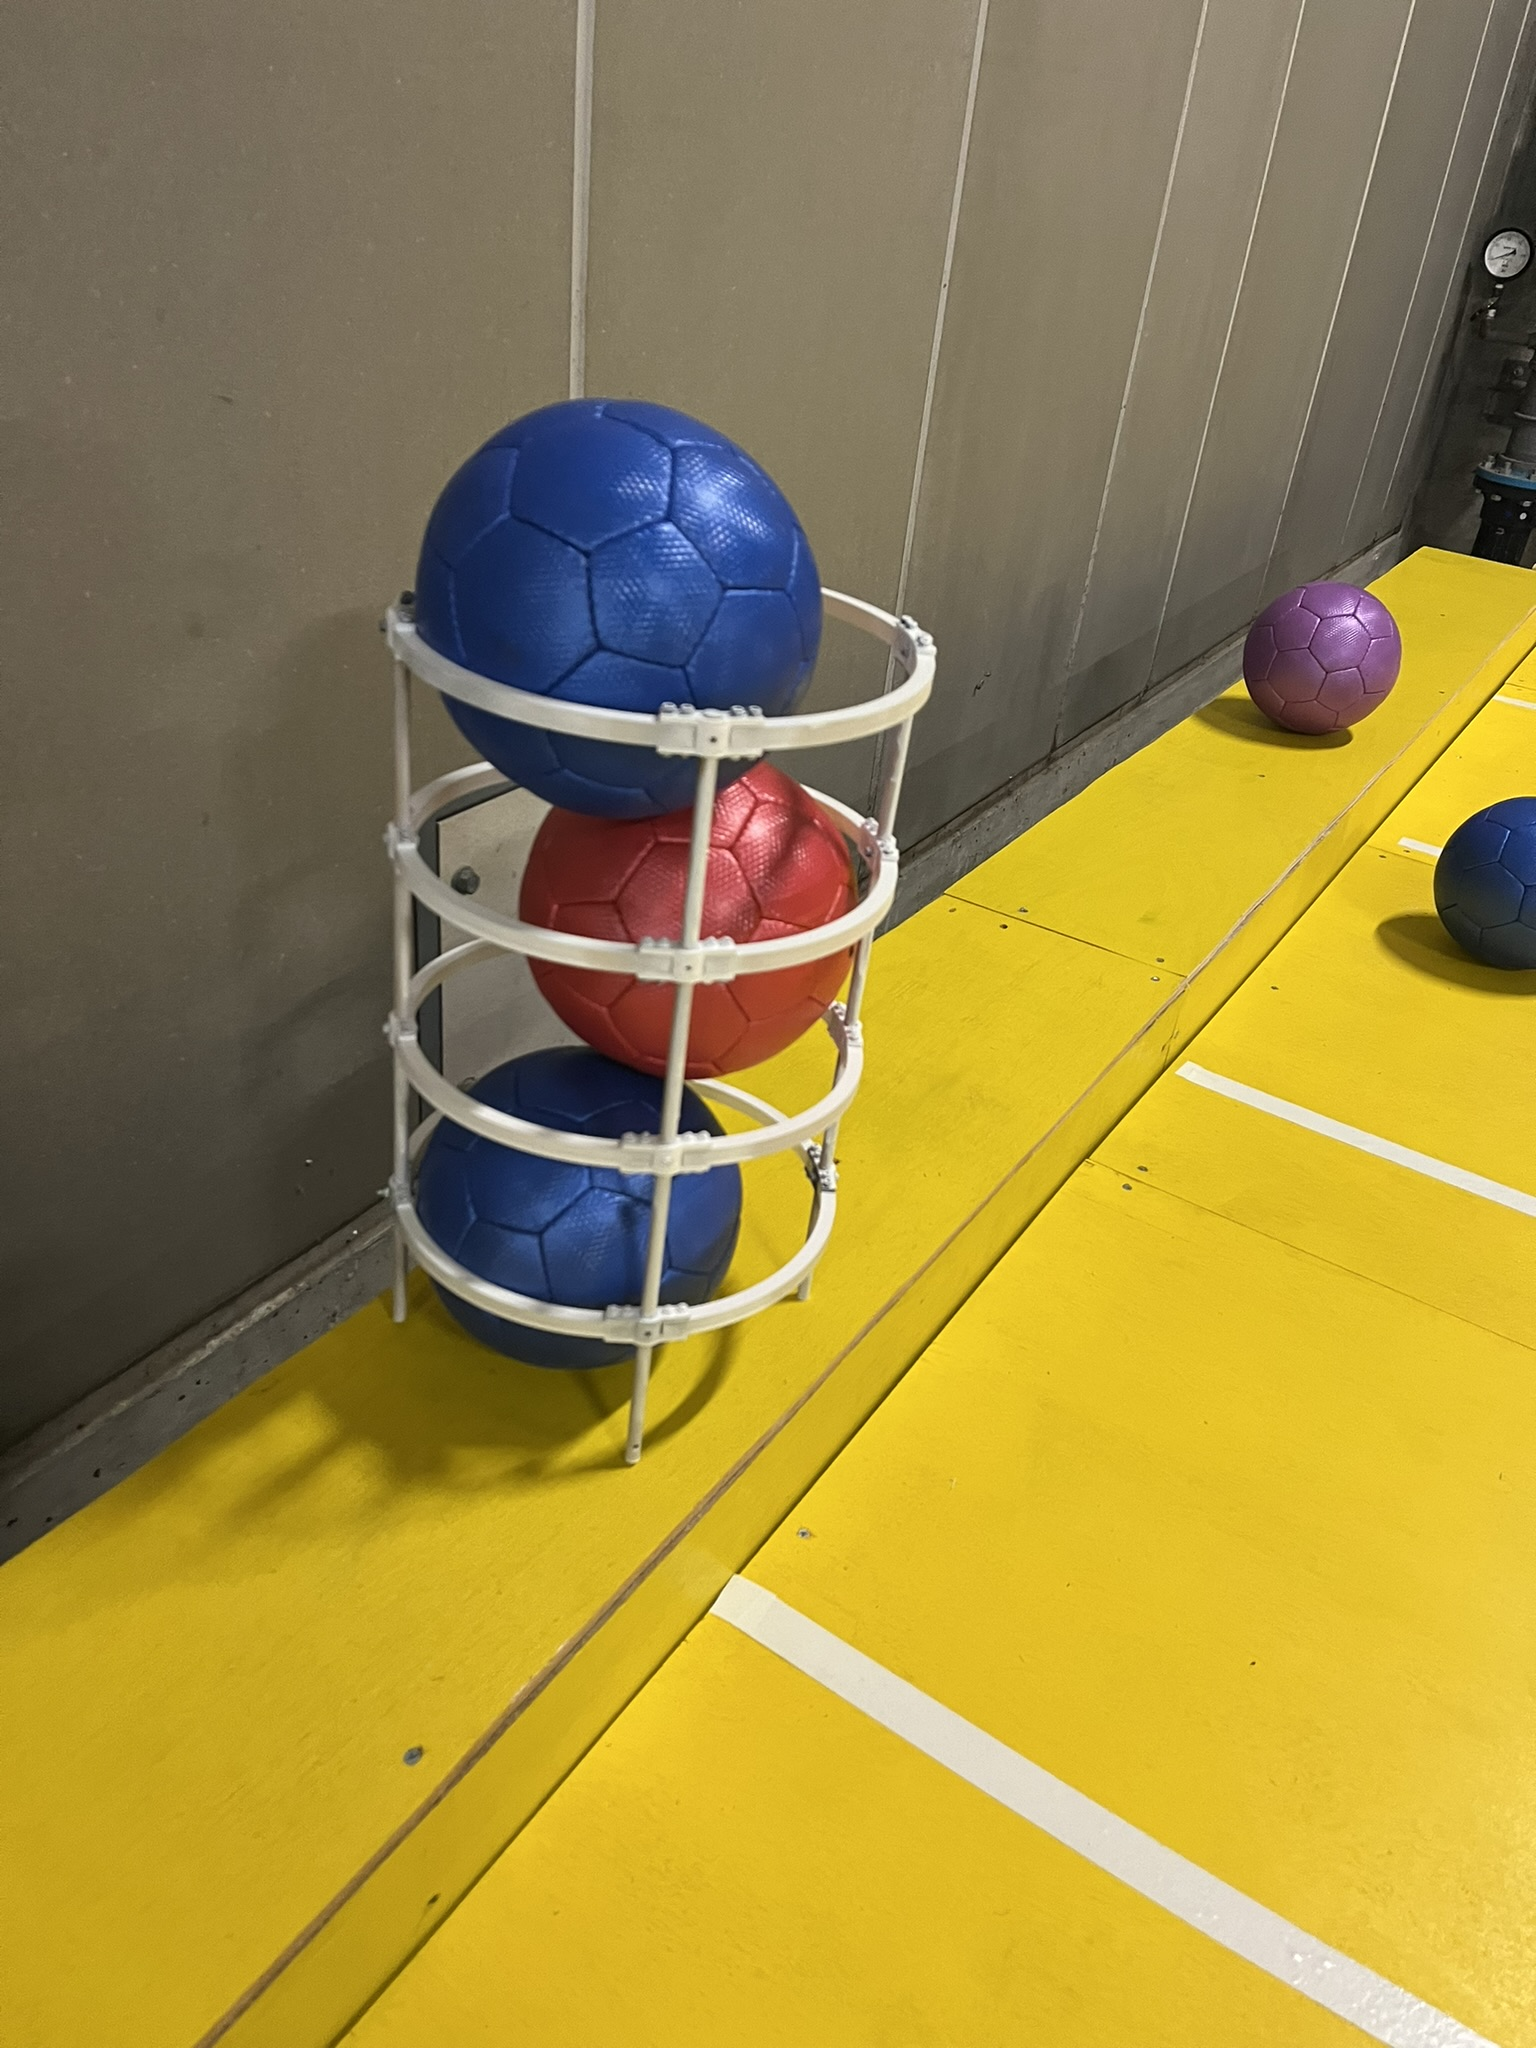blue: (424, 377, 808, 827), (400, 1027, 745, 1361)
